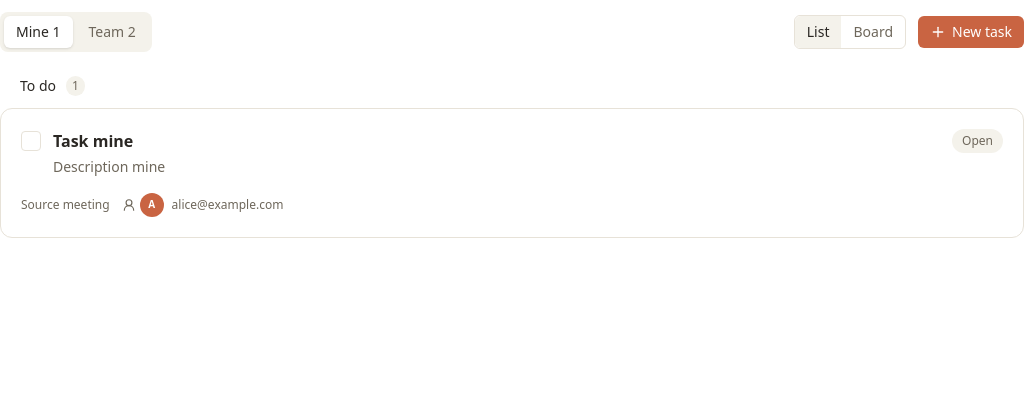
Test case: TasksSurface scope › narrows Team by group and keeps the Team segment selected
Click the tab "Team 2" at x=112, y=32, box 76,16 -> 148,48
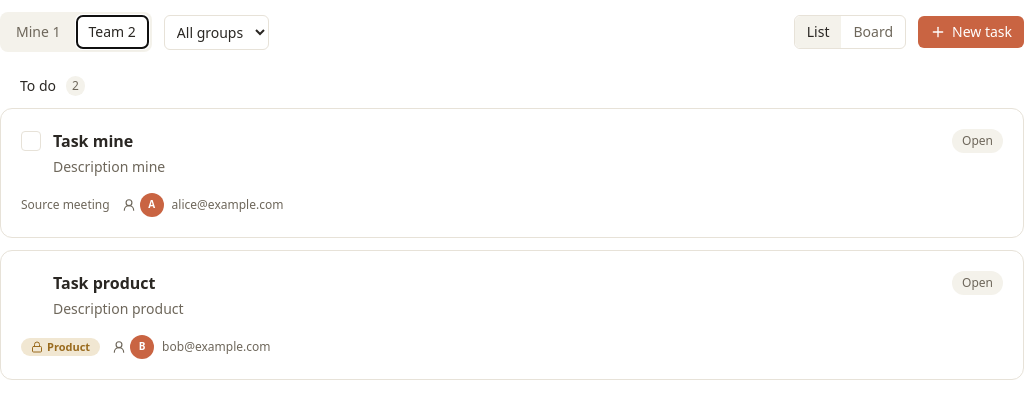
Select "Product" in the dropdown named "Group" at x=216, y=32, box 164,14 -> 269,50
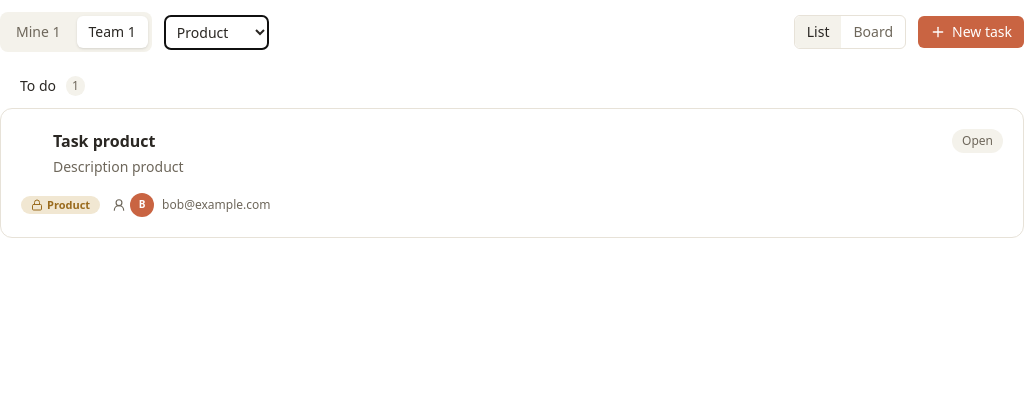
Expected: the link "Task product" is shown, 53,130 -> 156,152
Expected: the tab "Team 1" is shown, 76,16 -> 148,48
Expected: the link "Task mine" is gone
